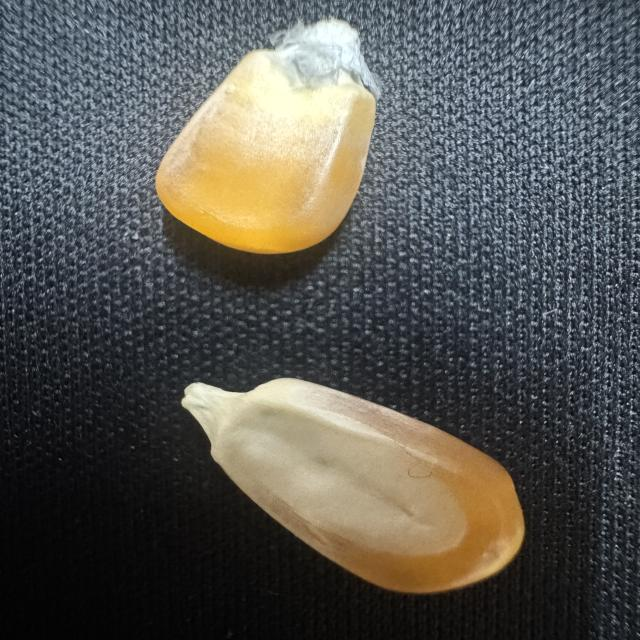Good-Seed: (170, 364, 536, 598), (151, 14, 399, 270)
